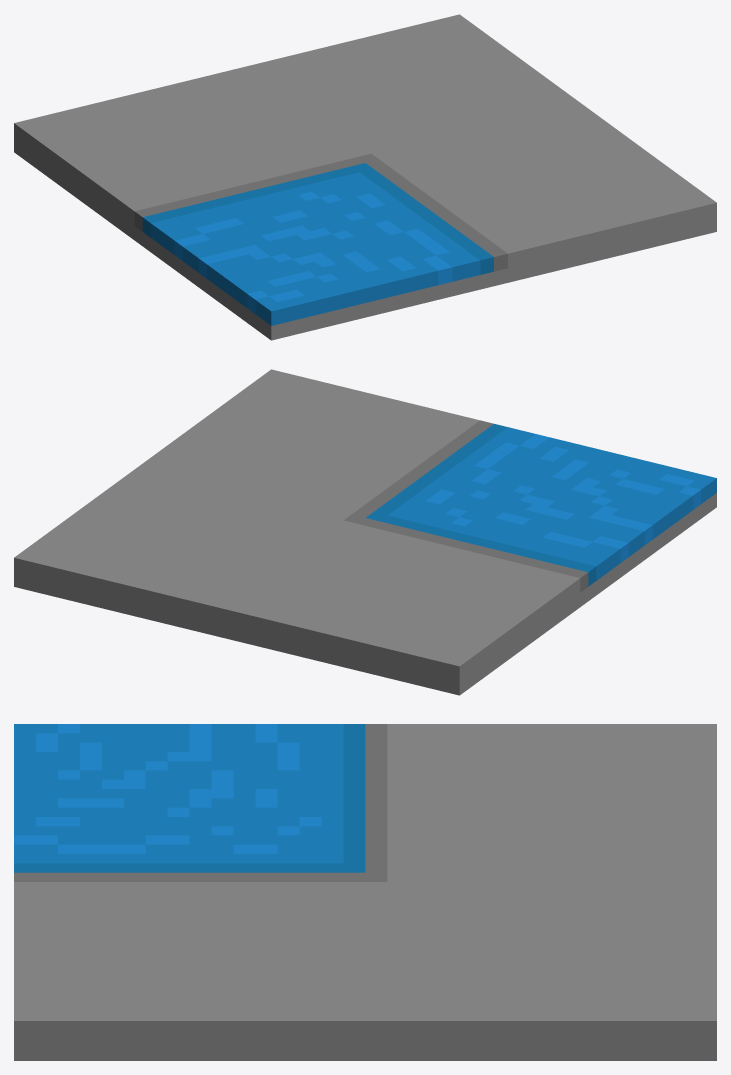
Rendered from city-water-edgy-edge-inner-1.gltf.
3 renders of one model, top to bottom at view 1: azimuth 30°, elevation 25°; view 2: azimuth 150°, elevation 25°; view 3: azimuth 270°, elevation 25°, orthographic. The views are drawn at different scales.
Parts seen in each view (by area): view 1: city-water-edgy-edge-inner-1_model; view 2: city-water-edgy-edge-inner-1_model; view 3: city-water-edgy-edge-inner-1_model.
Part boxes in pixels (x1,y1,x2,y2): city-water-edgy-edge-inner-1_model: [14, 14, 716, 340]; city-water-edgy-edge-inner-1_model: [14, 369, 716, 695]; city-water-edgy-edge-inner-1_model: [14, 724, 716, 1060].
Bounding box in the file's own units: 3.2 × 0.2 × 3.2.
Materials: 1 (1 with a texture image).
